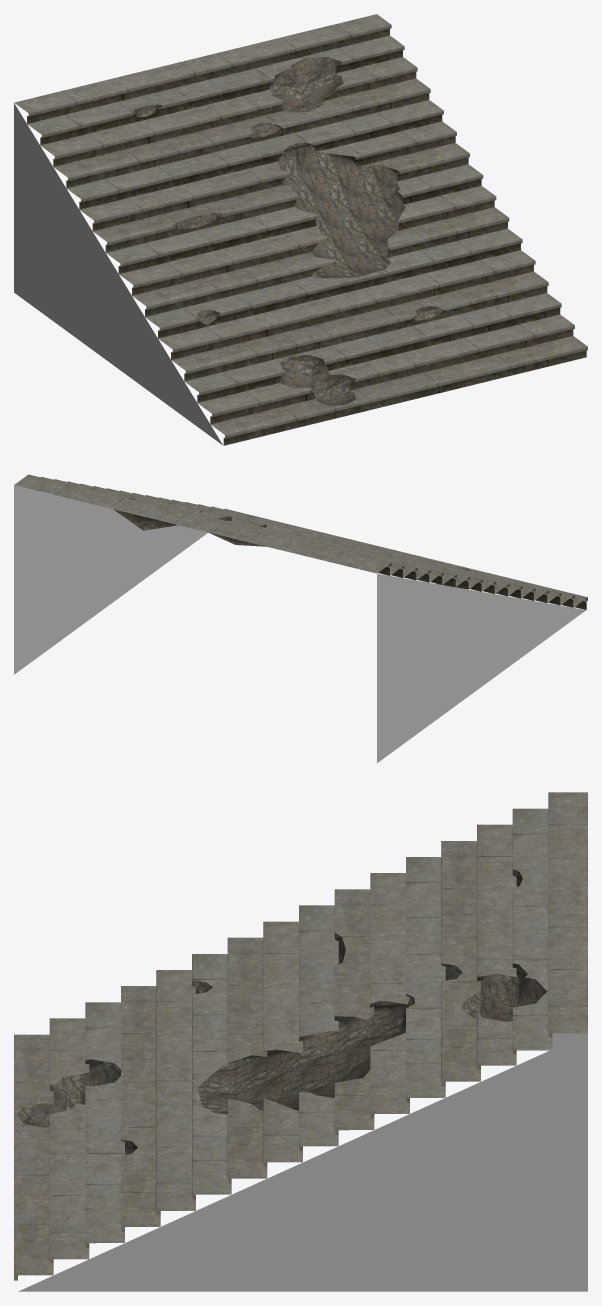
Rendered from StairsDamage01.fbx.
3 renders of one model, top to bottom at view 1: azimuth 30°, elevation 25°; view 2: azimuth 150°, elevation 25°; view 3: azimuth 270°, elevation 25°, orthographic. The views are drawn at different scales.
Parts seen in each view (by area): view 1: StairsDamage01; view 2: StairsDamage01; view 3: StairsDamage01.
Boxes of the visible parts, x1,y1,x2,y2 form: StairsDamage01: (14, 14, 587, 445); StairsDamage01: (14, 474, 587, 762); StairsDamage01: (14, 792, 587, 1291).
Bounding box in the file's own units: 500 × 250 × 504.
